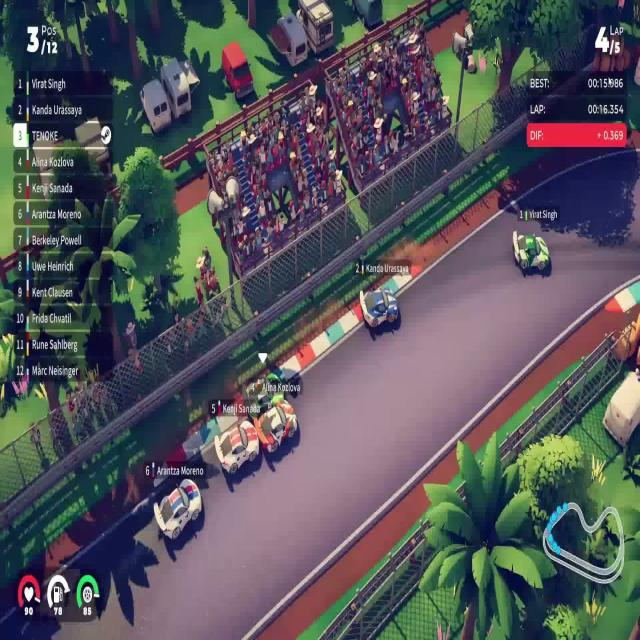car: (153, 476, 202, 541), (213, 417, 260, 475), (256, 401, 298, 451), (241, 372, 285, 417), (511, 228, 550, 276), (359, 284, 399, 330)
